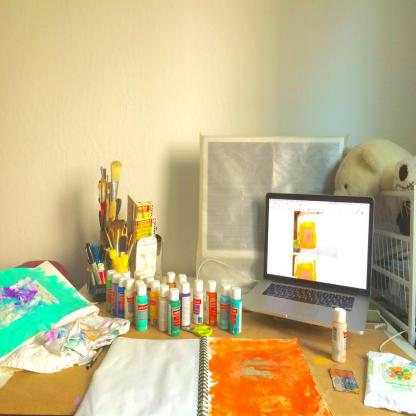board: (250, 187, 382, 344), (331, 307, 347, 364), (168, 286, 180, 336), (136, 283, 148, 330), (206, 280, 218, 325), (231, 286, 242, 334), (220, 283, 231, 329), (180, 282, 191, 326), (150, 280, 160, 325), (194, 280, 204, 324), (125, 279, 135, 323), (160, 284, 169, 332), (107, 270, 116, 308), (112, 272, 120, 314), (118, 277, 125, 316), (166, 271, 176, 288), (121, 270, 132, 283), (178, 275, 186, 291)
